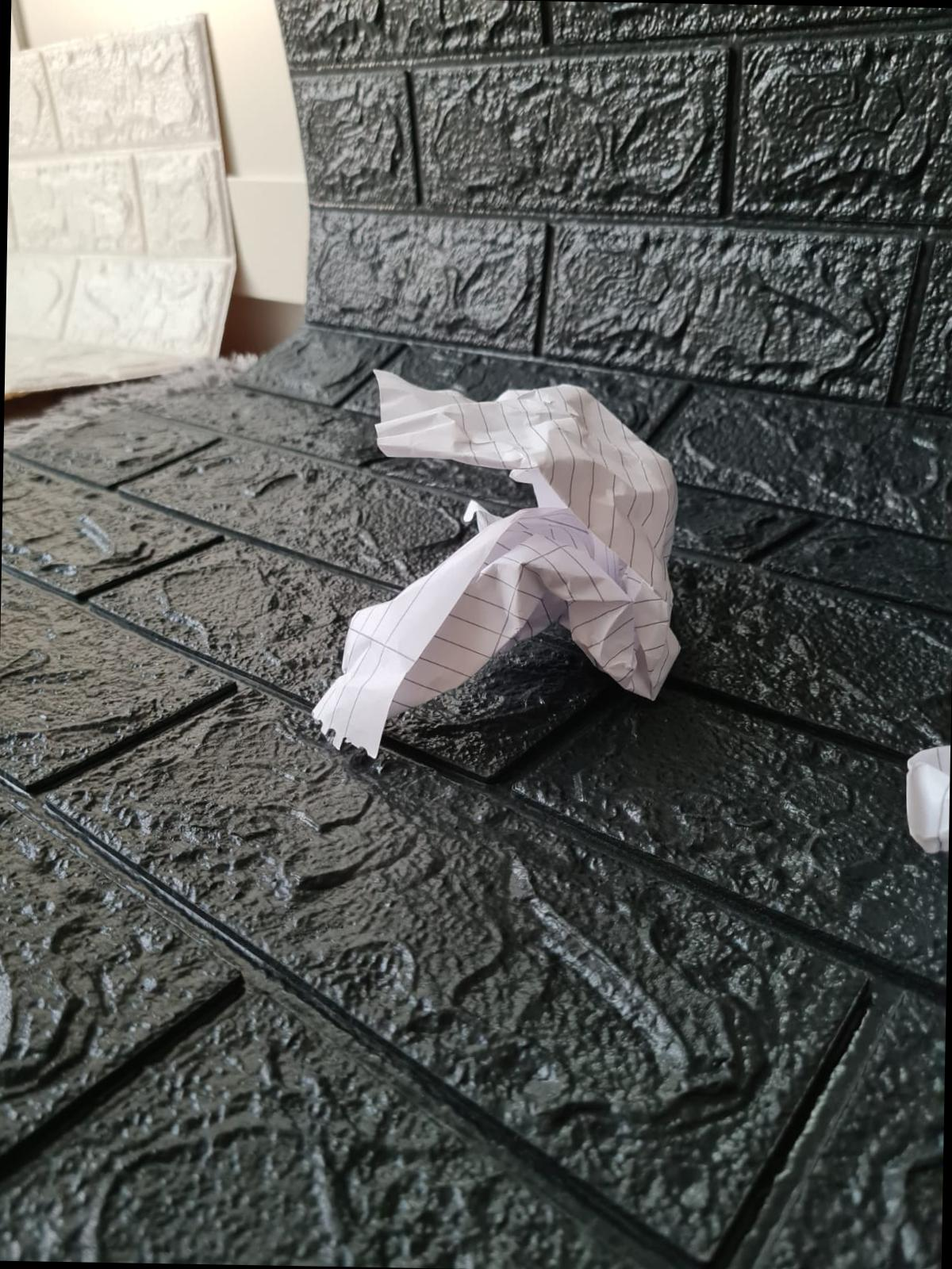Kertas: (310, 372, 682, 765)
